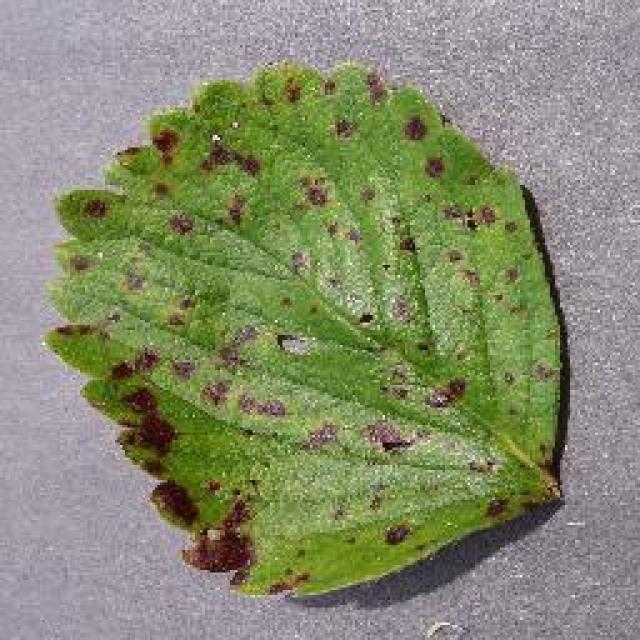Strawberry___Leaf_scorch: (28, 35, 580, 625)
